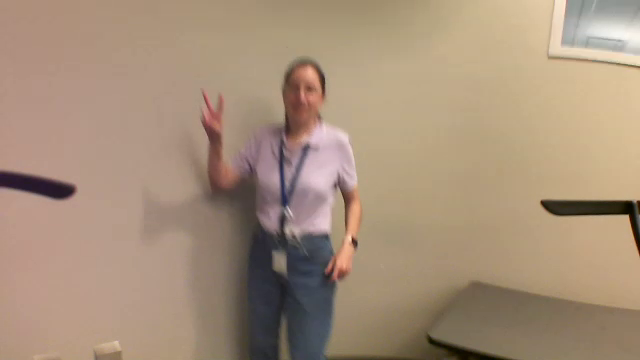peace: (193, 82, 233, 137)
